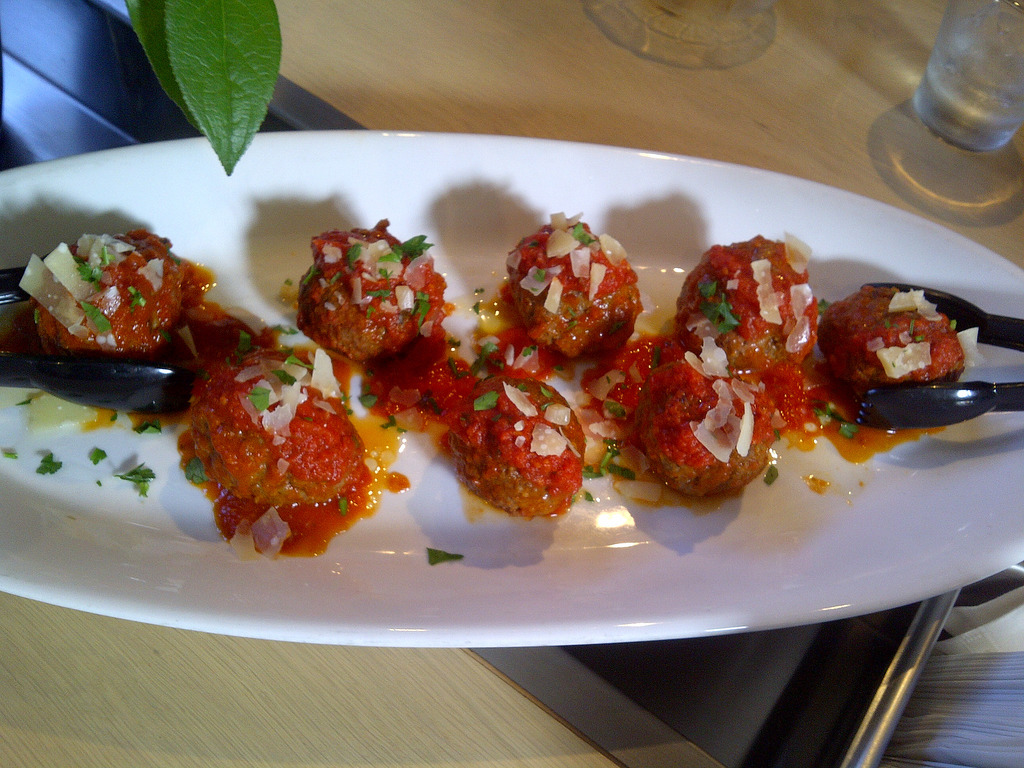meatballs: (210, 361, 358, 526), (644, 354, 777, 504), (29, 232, 177, 353), (682, 233, 813, 369), (460, 378, 575, 518), (305, 231, 434, 353), (512, 218, 620, 347), (821, 291, 959, 390)
